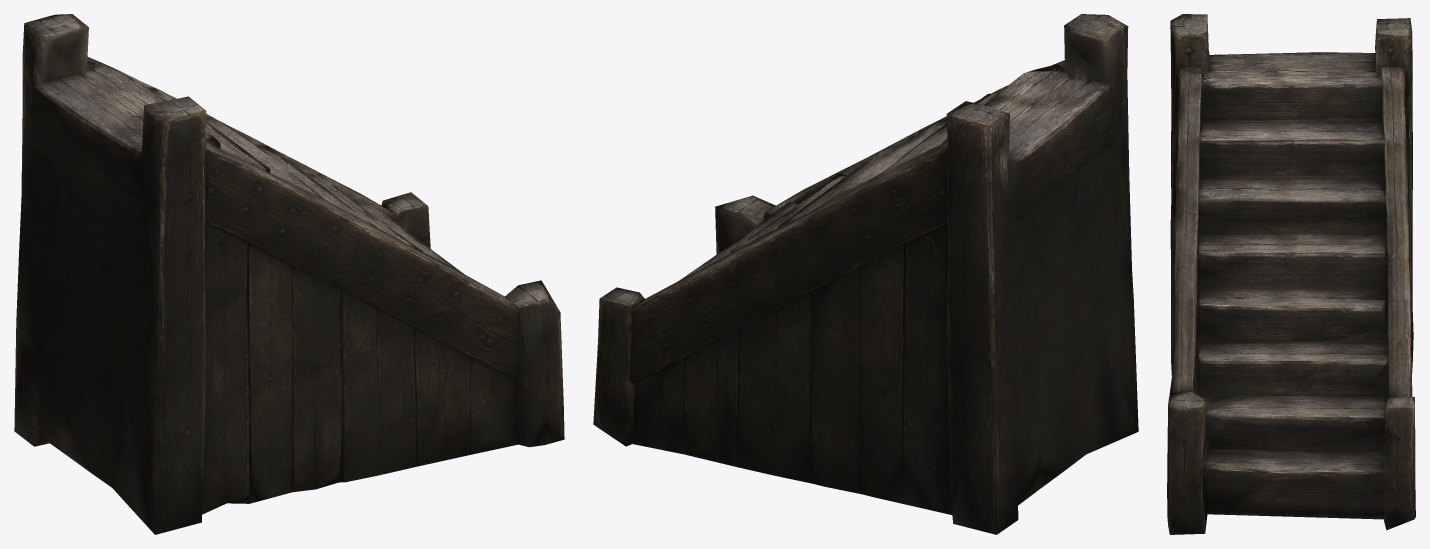
Rendered from stairs.glb.
3 renders of one model, left to right at view 1: azimuth 30°, elevation 25°; view 2: azimuth 150°, elevation 25°; view 3: azimuth 270°, elevation 25°, orthographic. The views are drawn at different scales.
Parts seen in each view (by area): view 1: tripo_node_356347db-8555-4614-9aaf-42e94bd4b147; view 2: tripo_node_356347db-8555-4614-9aaf-42e94bd4b147; view 3: tripo_node_356347db-8555-4614-9aaf-42e94bd4b147.
Boxes of the visible parts, left/top/right/bottom form: tripo_node_356347db-8555-4614-9aaf-42e94bd4b147: left=14, top=14, right=564, bottom=534; tripo_node_356347db-8555-4614-9aaf-42e94bd4b147: left=593, top=14, right=1138, bottom=534; tripo_node_356347db-8555-4614-9aaf-42e94bd4b147: left=1167, top=14, right=1415, bottom=534.
Bounding box in the file's own units: 1 × 0.9638 × 0.613.
Materials: 1 (1 with a texture image).
